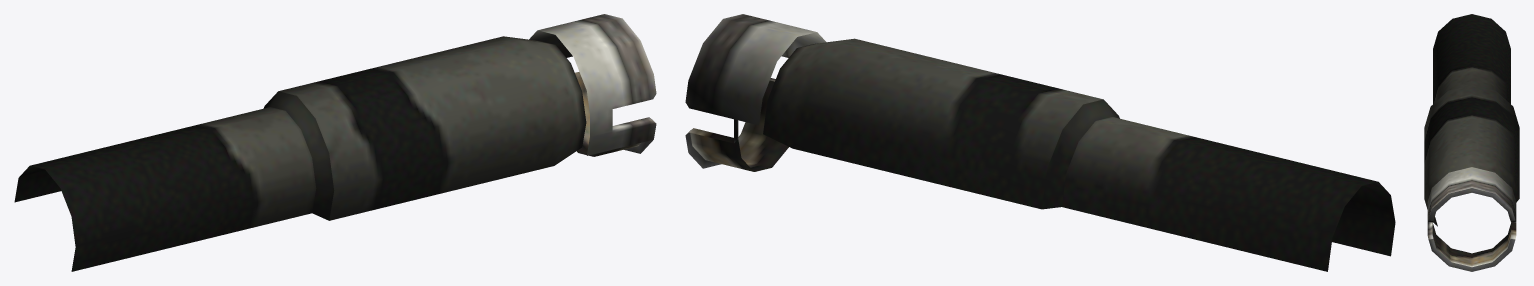
The model's file is TightPassageCannon.fbx.
3 renders of one model, left to right at view 1: azimuth 30°, elevation 25°; view 2: azimuth 150°, elevation 25°; view 3: azimuth 270°, elevation 25°, orthographic. The views are drawn at different scales.
Parts seen in each view (by area): view 1: Mesh; view 2: Mesh; view 3: Mesh.
Part boxes in pixels (x1,y1,x2,y2): Mesh: [14, 14, 656, 271]; Mesh: [685, 14, 1395, 271]; Mesh: [1424, 14, 1519, 271].
Size of the model in its own units: 5.28 by 1.16 by 1.18.
Materials: 1 (1 with a texture image).
